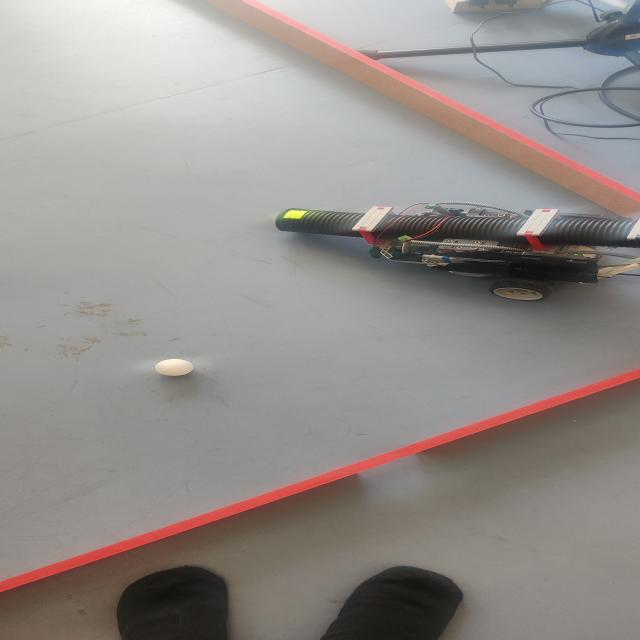robot: (274, 202, 640, 301)
robot-front: (277, 208, 358, 236)
